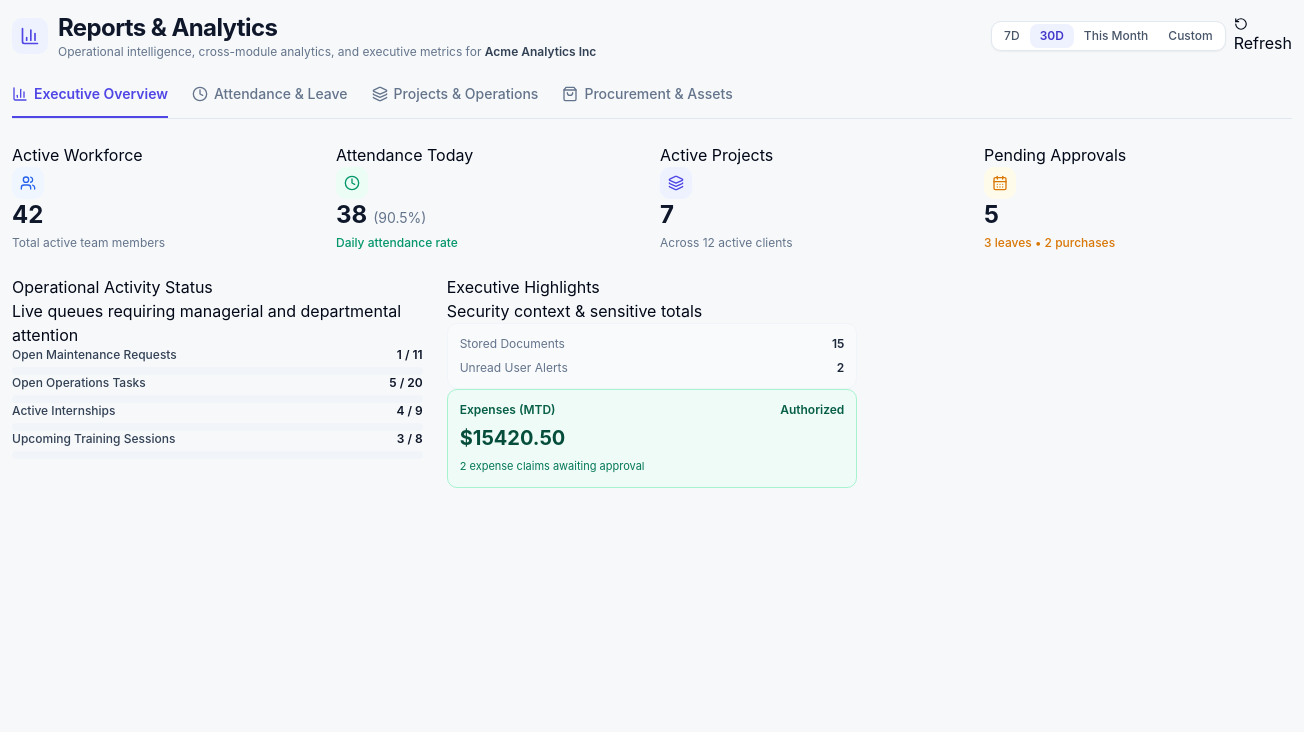
it: ReportsPage Component › switches to Attendance & Leave tab and renders metrics
The image size is (1304, 732).
Expected: the text "42" is shown, [12, 200, 43, 229]
What coordinates should you click on to do the following:
click the button "Attendance & Leave"
I would click on:
 (270, 101)
Its box is [192, 84, 348, 118].
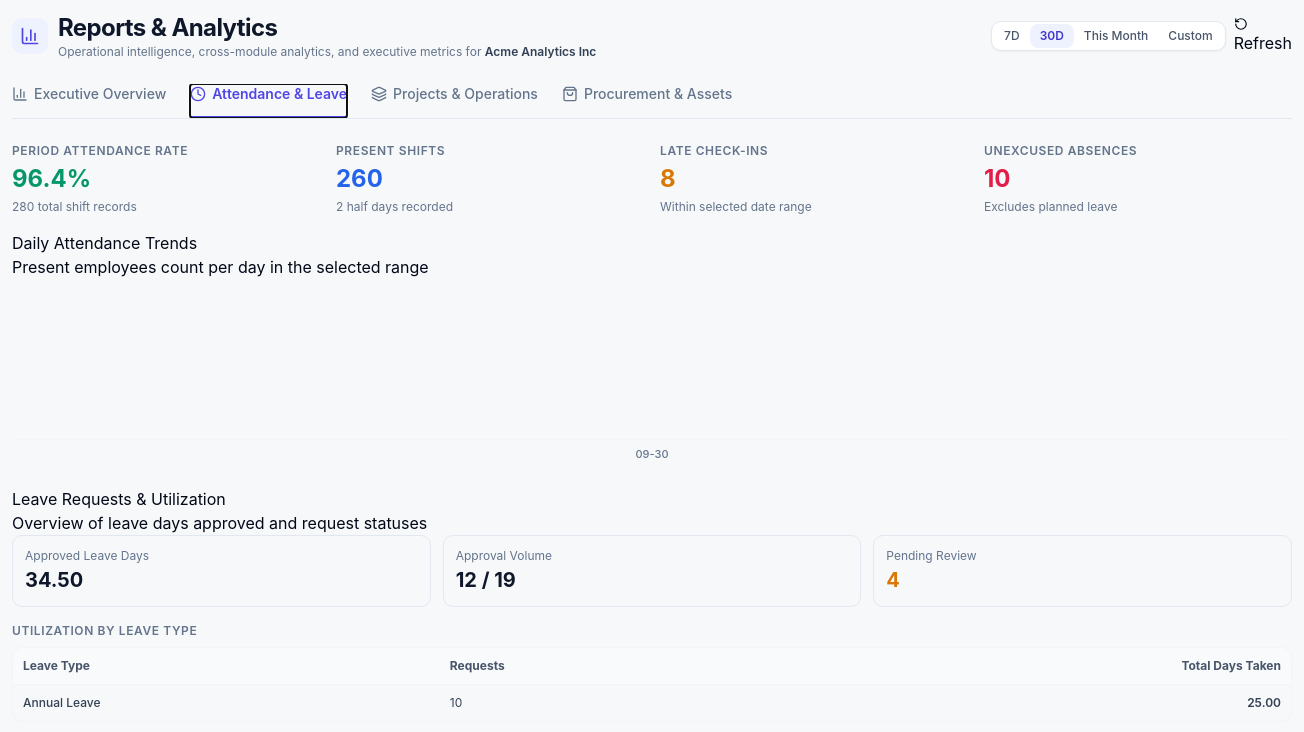
Expected: the text "96.4%" is shown, [12, 164, 91, 193]
Expected: the text "Annual Leave" is shown, [13, 684, 440, 720]
Expected: the text "34.50" is shown, [25, 568, 83, 592]
